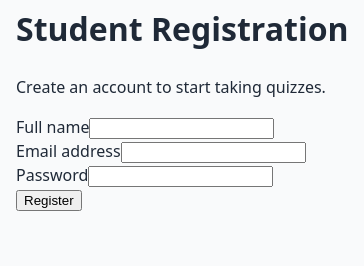
OQS-04: Registration page › falls back to a generic message when the server gives no error text
Step 1. Type "Asha Rao" into the field labelled "Full name" → (182, 128), box [90,118,274,139]
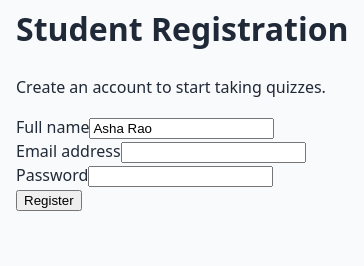
Step 2. Type "asha@example.com" into the field labelled "Email address" → (213, 152), box [120,142,306,163]
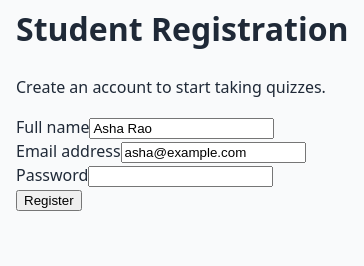
Step 3. Type "SecurePass123" into the password field labelled "Password" → (181, 176), box [88,166,273,187]
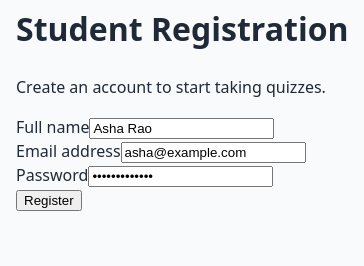
Step 4. Click the button "Register" → (49, 200), box [16,190,82,211]
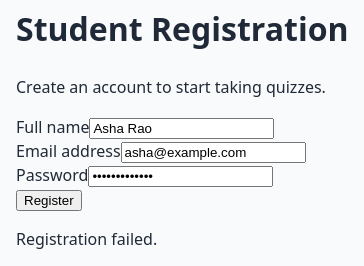
Check: the message reads "Registration failed.", box [16,228,157,250]
